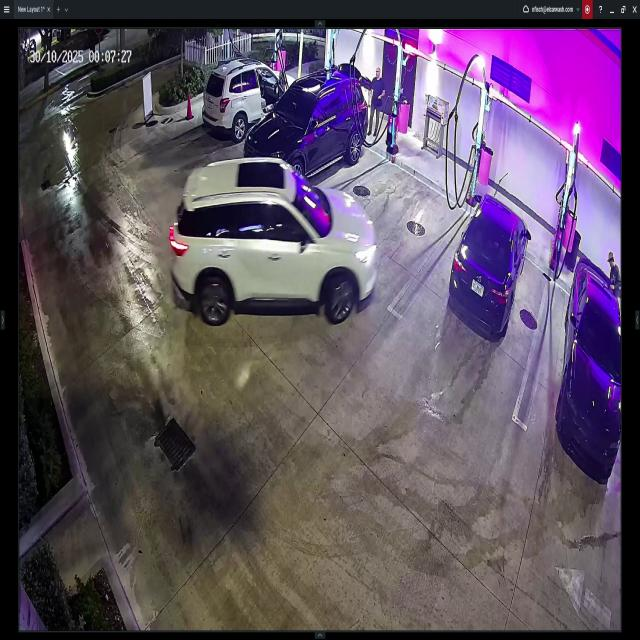Car: (170, 161, 378, 324), (242, 62, 365, 180), (559, 252, 621, 472), (449, 194, 531, 334), (204, 60, 297, 140)
